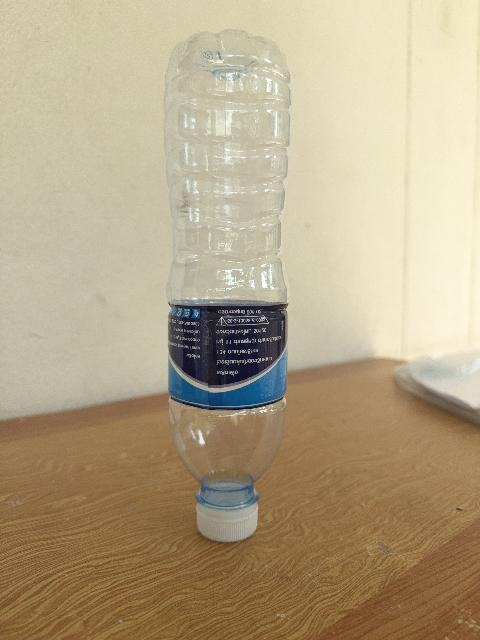bottle: (164, 31, 289, 541)
